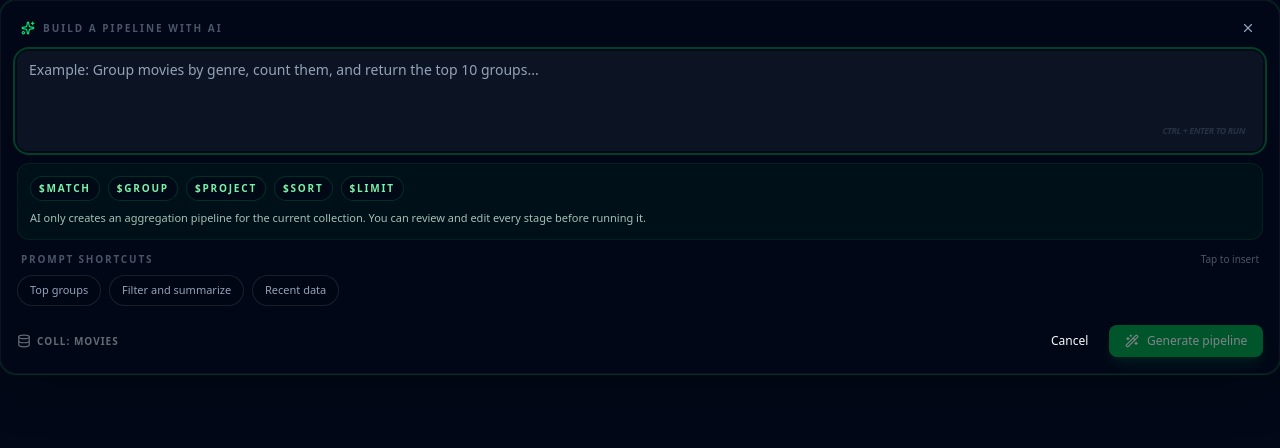
NoSqlAiQueryBox aggregation mode › keeps the helper open when the builder rejects an unsupported pipeline
Replace the text in the text box with placeholder "Group movies by genre" with "Count every movie". click: (640, 101)
box: [17,51,1263,151]
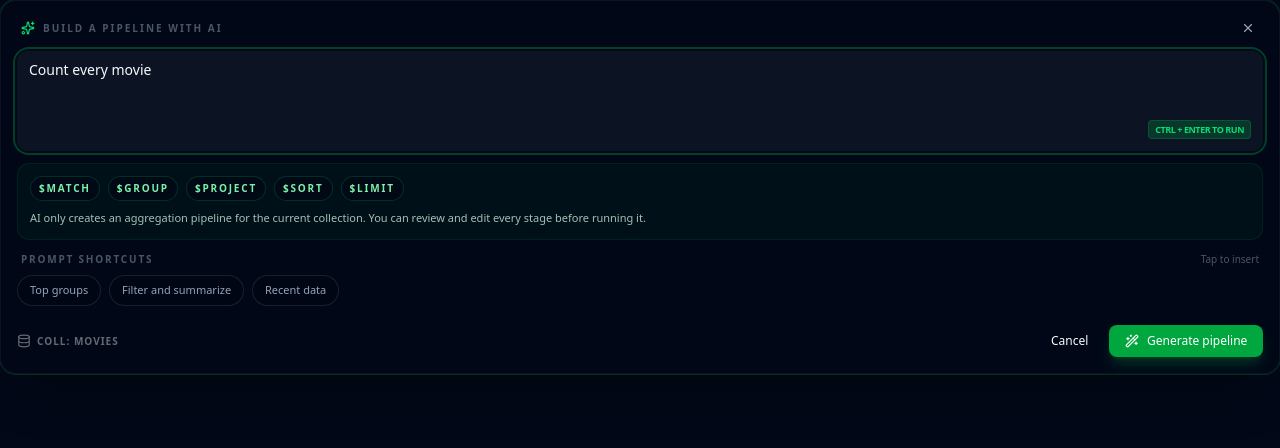
Click the button "Generate pipeline". click: (1186, 341)
box: [1109,325,1263,357]
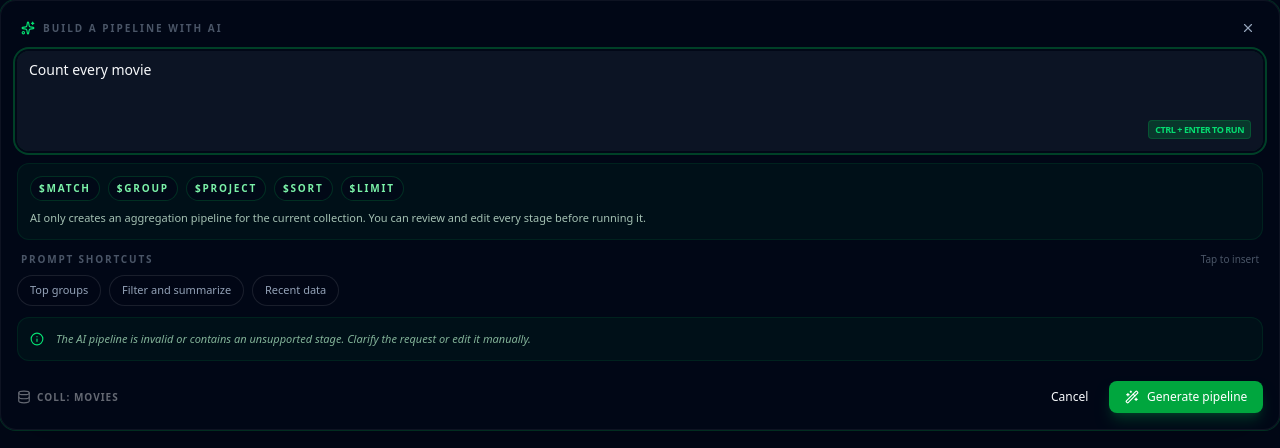
Now the text "invalid or contains an unsupported stage" is shown, box [56,331,531,346]
